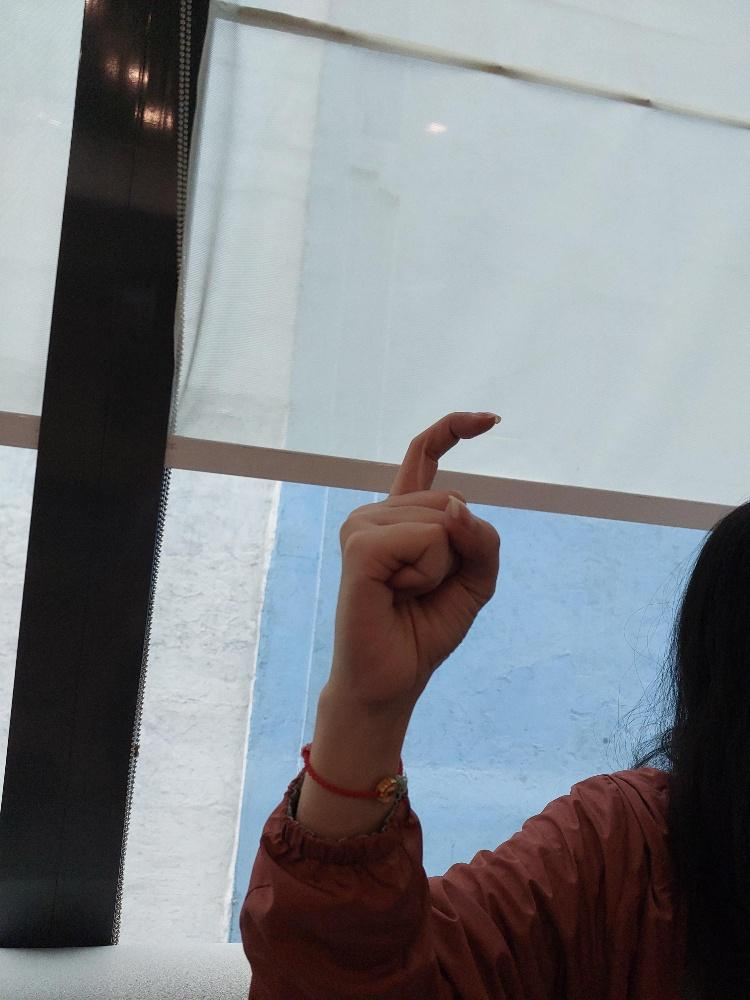x: (326, 406, 504, 709)
